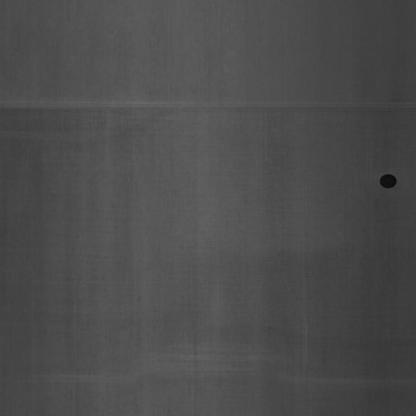punching_hole: (378, 168, 400, 194)
welding_line: (1, 88, 415, 122)
